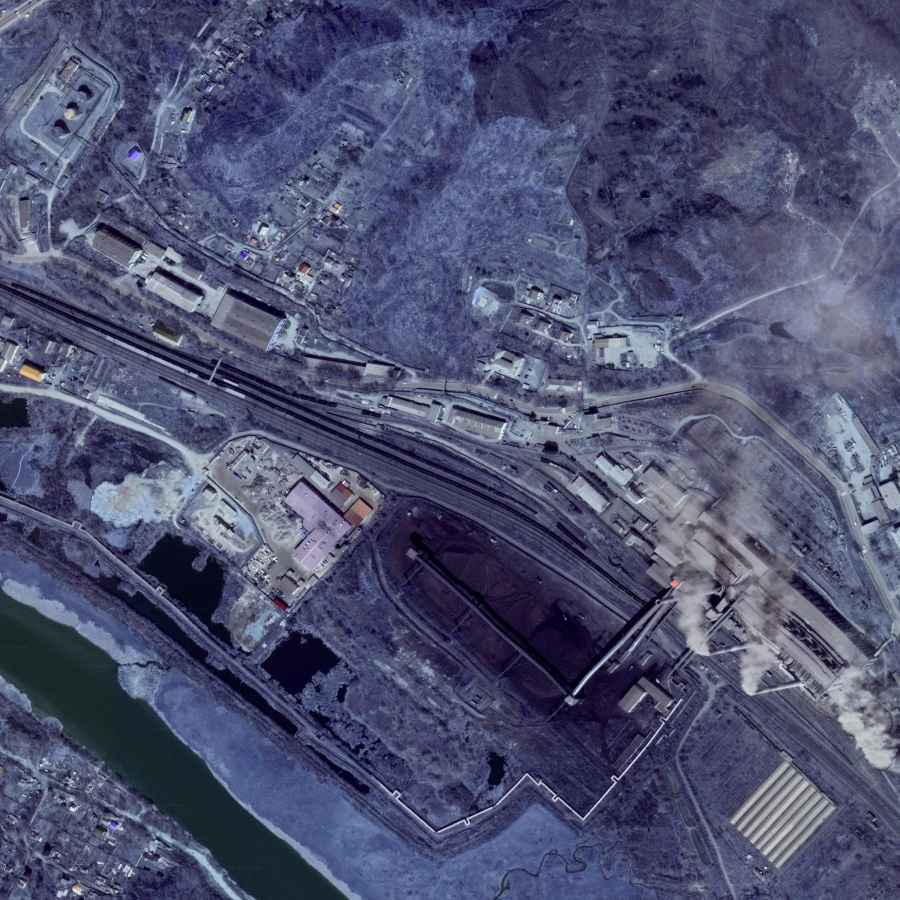PowerPlant: (382, 454, 823, 747)
